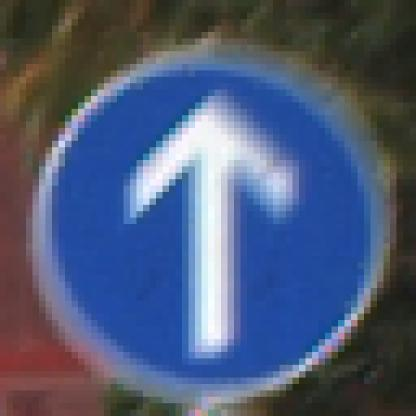AheadOnly: (34, 40, 385, 379)
